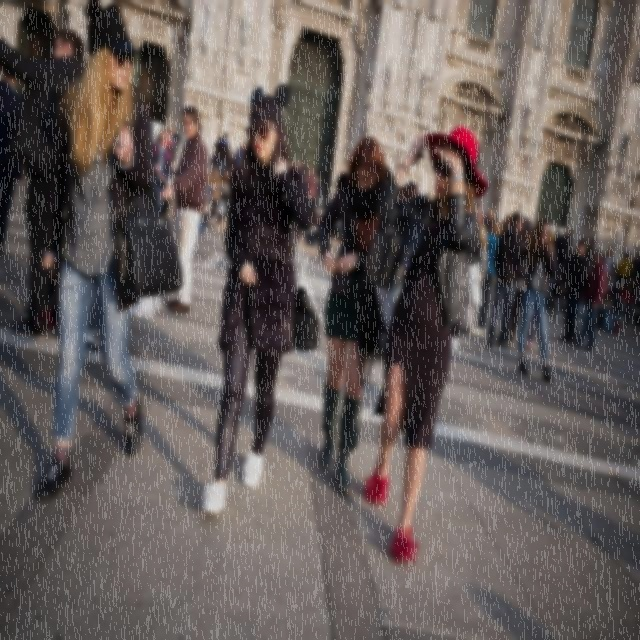pessoa: (28, 0, 185, 506), (358, 120, 490, 570), (191, 78, 321, 520), (314, 133, 396, 490), (366, 52, 500, 159), (159, 104, 209, 316), (123, 0, 266, 64), (509, 216, 558, 385), (487, 210, 528, 350), (0, 46, 24, 284), (568, 246, 608, 352), (458, 212, 488, 332), (557, 238, 590, 346), (599, 126, 639, 214), (503, 226, 532, 346), (470, 216, 498, 336), (152, 127, 174, 218), (547, 115, 585, 163), (205, 187, 228, 234), (522, 94, 540, 152), (554, 250, 568, 321), (558, 228, 575, 284), (213, 131, 232, 178), (214, 64, 237, 102), (608, 277, 624, 323), (500, 131, 516, 177), (616, 250, 634, 288), (556, 228, 569, 278), (580, 238, 592, 292), (502, 213, 534, 233), (620, 282, 634, 324), (524, 305, 537, 350), (396, 180, 424, 200), (602, 246, 614, 292), (577, 272, 587, 326), (207, 163, 223, 194), (630, 276, 640, 323), (308, 211, 320, 250), (234, 138, 247, 172), (304, 164, 316, 200), (628, 252, 640, 288), (482, 207, 498, 233), (170, 126, 180, 164), (329, 216, 342, 243), (599, 288, 612, 313), (586, 236, 598, 263), (316, 180, 326, 212), (165, 128, 175, 154), (209, 148, 217, 174), (314, 176, 320, 210), (474, 200, 484, 220), (552, 228, 560, 248), (300, 158, 308, 176), (286, 158, 295, 171), (198, 217, 204, 236), (223, 168, 231, 182), (572, 308, 578, 326), (296, 159, 302, 171), (480, 210, 484, 228), (426, 190, 432, 202), (578, 234, 584, 246), (611, 262, 620, 270), (484, 210, 490, 218), (230, 150, 234, 160), (494, 210, 498, 220), (228, 146, 231, 156), (158, 129, 161, 137), (233, 154, 236, 158)
